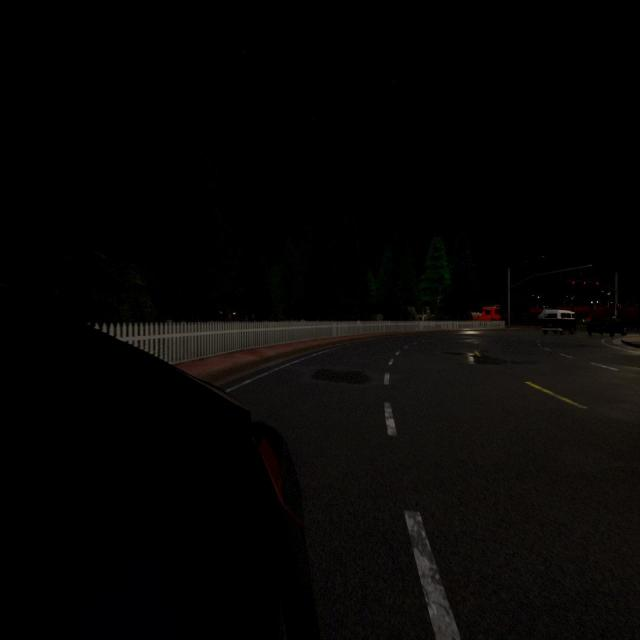Vehicle: (0, 284, 329, 640), (587, 314, 628, 338), (542, 310, 577, 336), (472, 307, 502, 321)
traffic_light: (572, 281, 575, 286), (596, 282, 599, 287), (584, 280, 586, 286)
